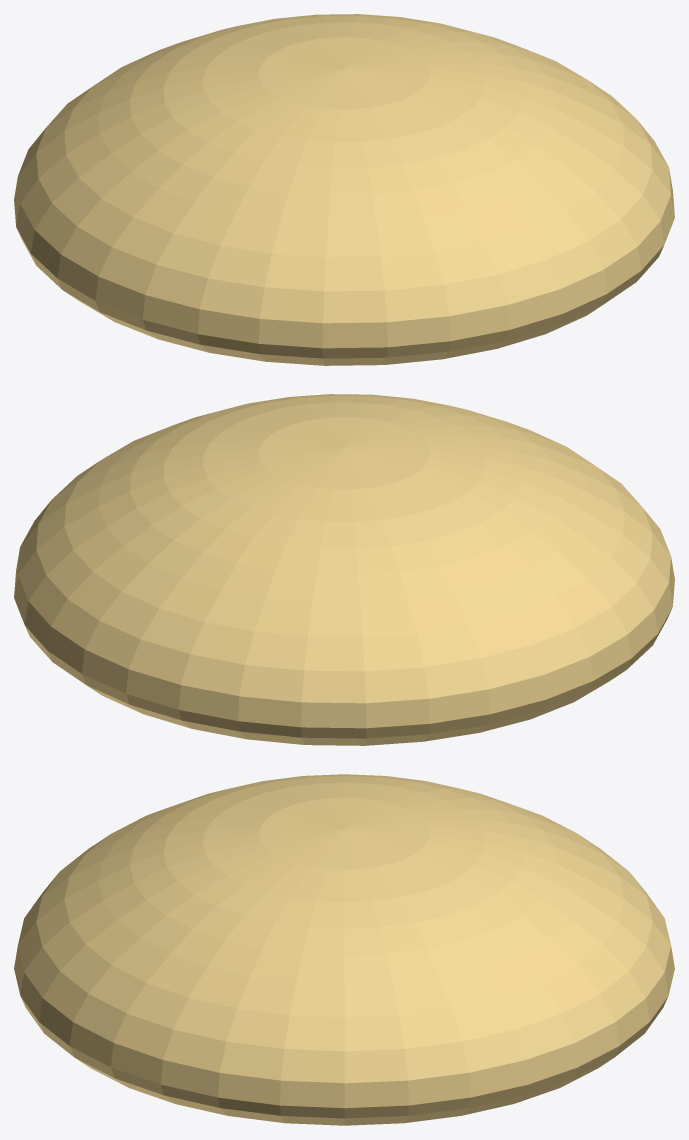
The model's file is masa.obj.
The picture shows the model from 3 angles, top to bottom: view 1: azimuth 30°, elevation 25°; view 2: azimuth 150°, elevation 25°; view 3: azimuth 270°, elevation 25°; orthographic projection.
Parts seen in each view (by area): view 1: Sphere.002; view 2: Sphere.002; view 3: Sphere.002.
Boxes of the visible parts, box(x1,y1,x2,y2) form: Sphere.002: box(14, 14, 674, 365); Sphere.002: box(14, 394, 674, 745); Sphere.002: box(14, 774, 674, 1125).
Bounding box in the file's own units: 1.72 × 0.5836 × 1.72.
Materials: 1 (1 with a texture image).
